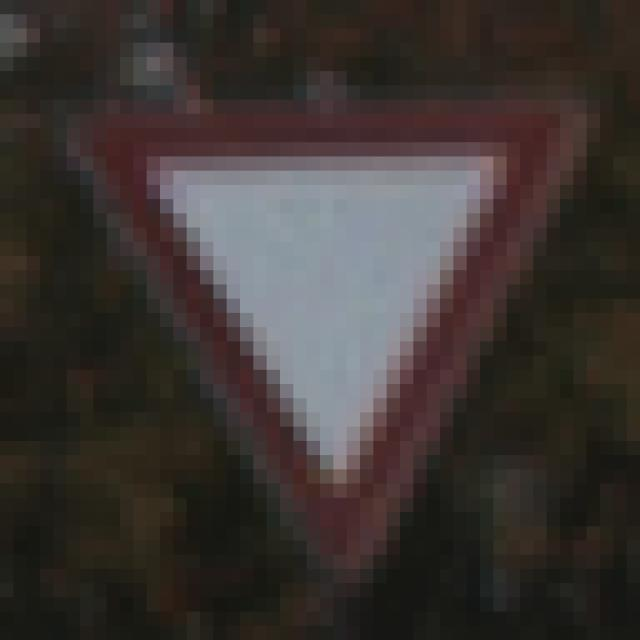Give Way: (68, 72, 574, 570)
